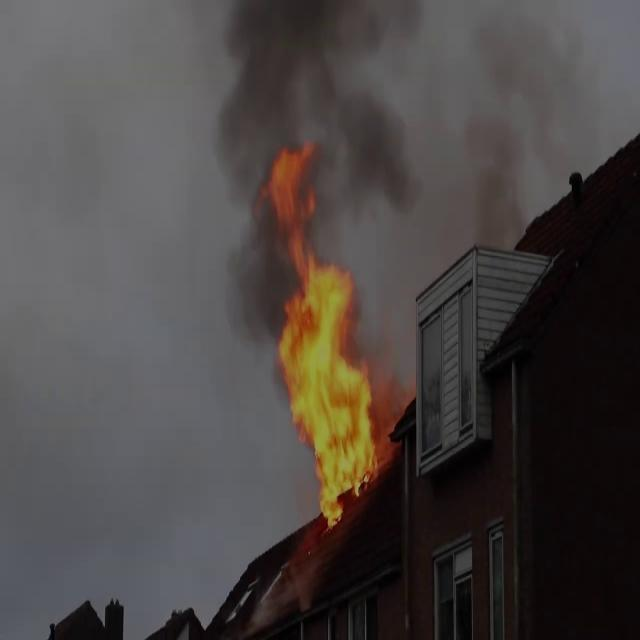Fire: (266, 162, 386, 528)
Smoke: (196, 9, 432, 290), (413, 0, 640, 263)
